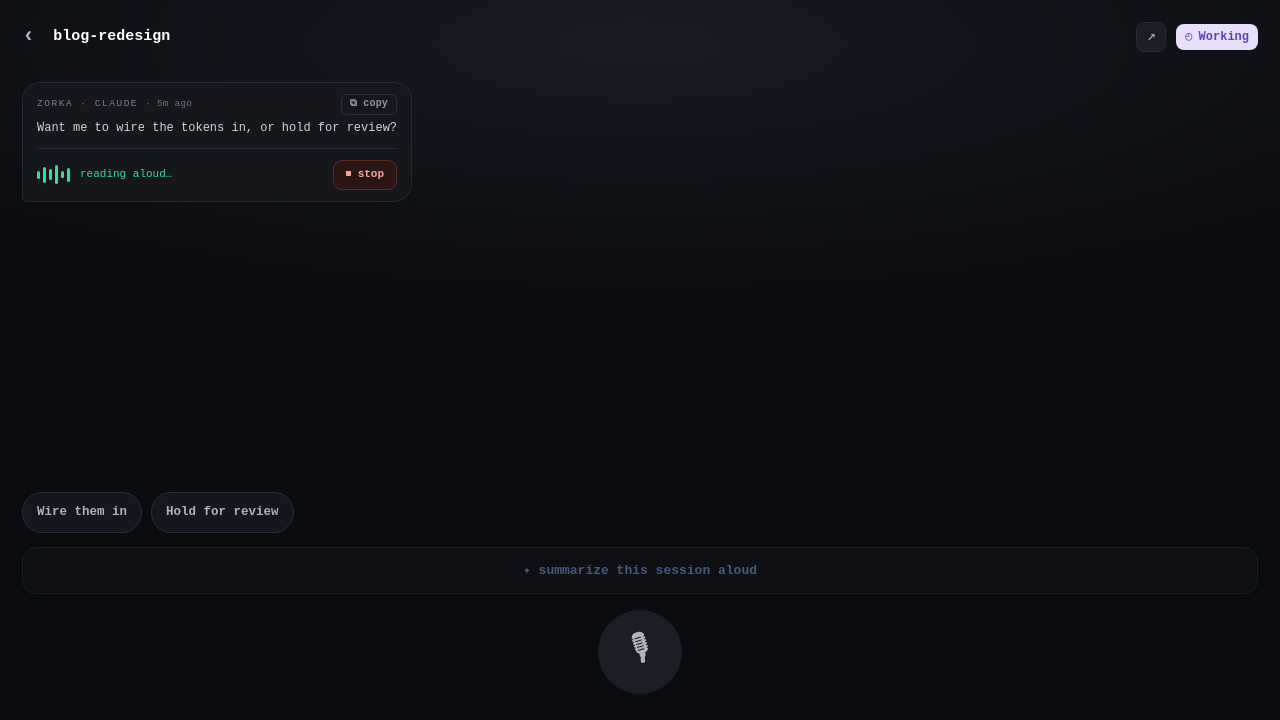
Test case: VoicePage › a reply reading itself aloud must be interruptible — the operator needs a way to shut it up (#32) › shows a stop control while playing and halts playback when tapped
Click the button "⏹ stop": click(365, 175) top-left (332, 160), bottom-right (397, 190)
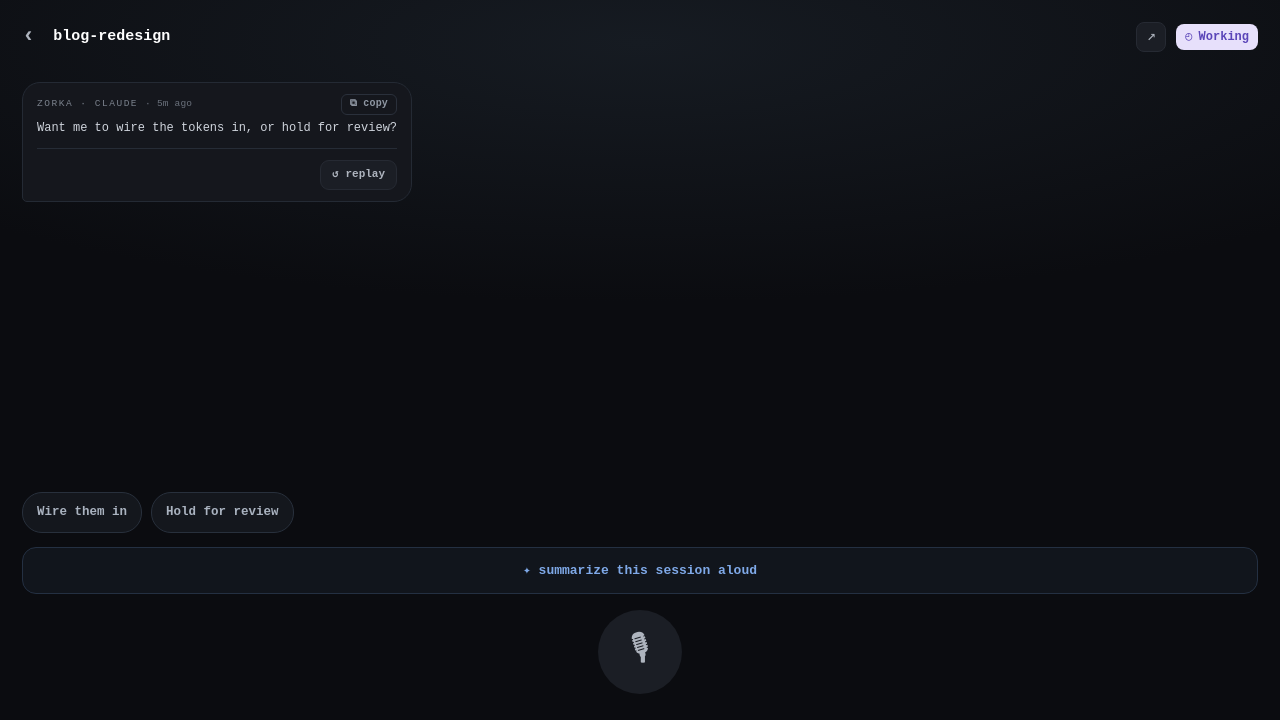
Expected: the button "⏹ stop" is gone
Expected: the button "↺ replay" is shown, top-left (320, 160), bottom-right (397, 190)
